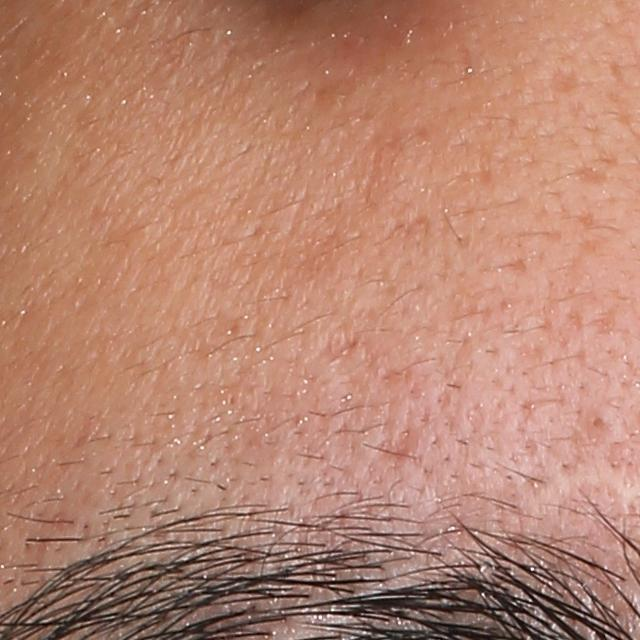atrophic_scar: (368, 436, 418, 464), (568, 157, 610, 188), (546, 65, 581, 94)
comedo: (587, 410, 611, 434)
